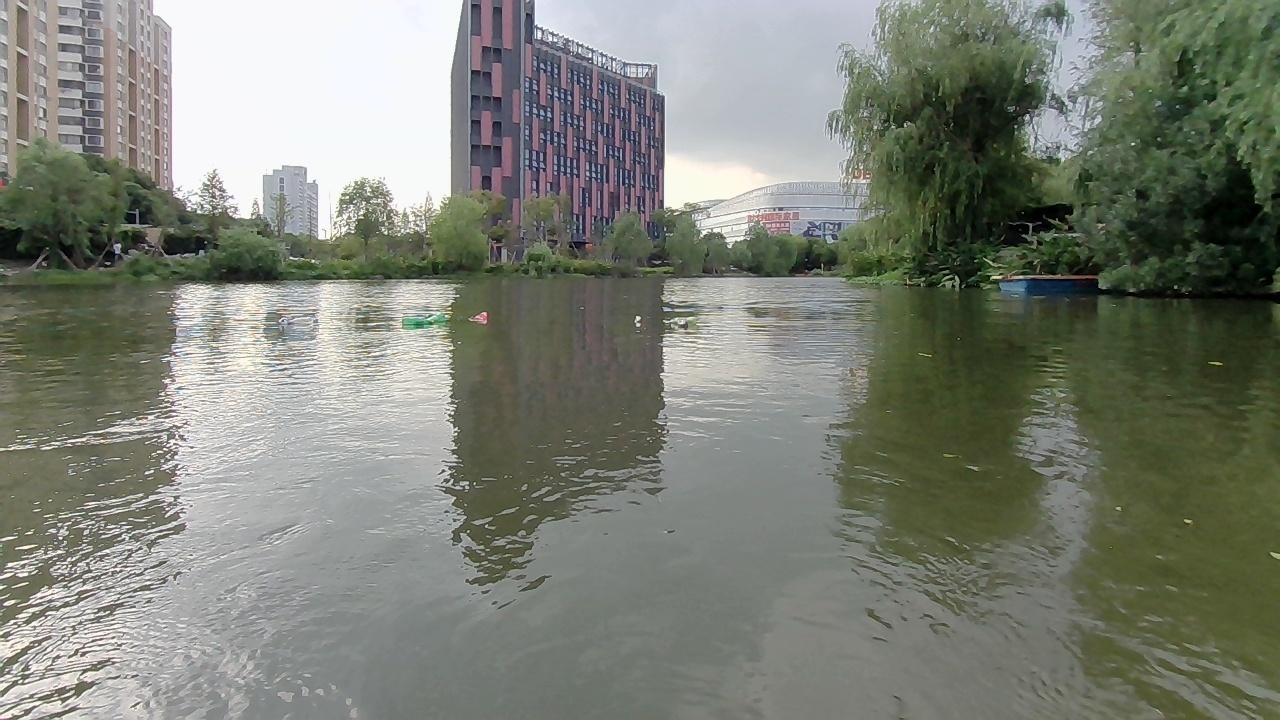bottle: (397, 309, 442, 326), (282, 314, 322, 329), (466, 310, 490, 327), (664, 316, 696, 325), (635, 312, 645, 324)
